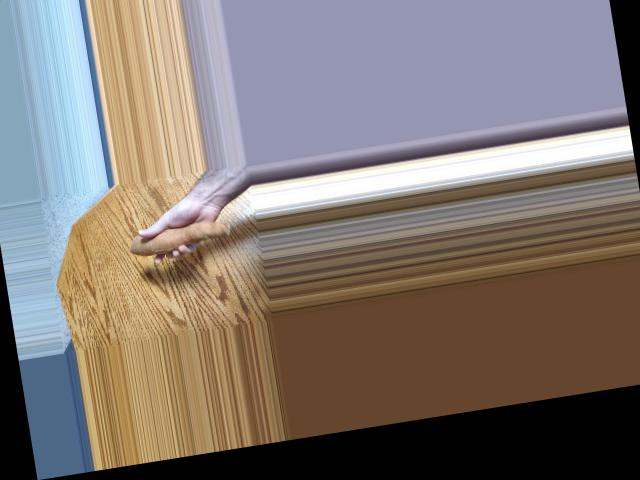sweet_potato: (117, 205, 237, 262)
